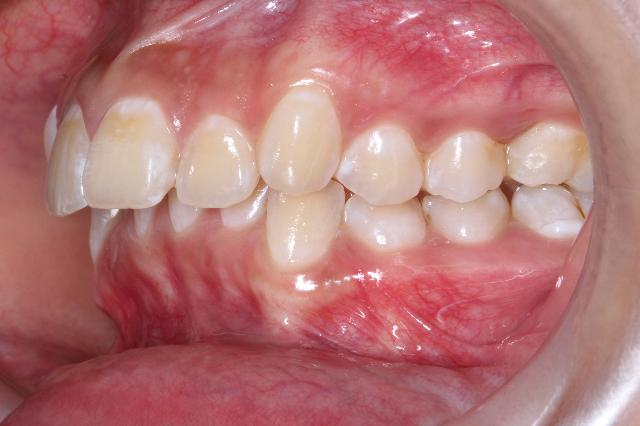canine class II 1/2: (247, 77, 428, 277)
molar class II 3/4: (503, 114, 605, 246)
